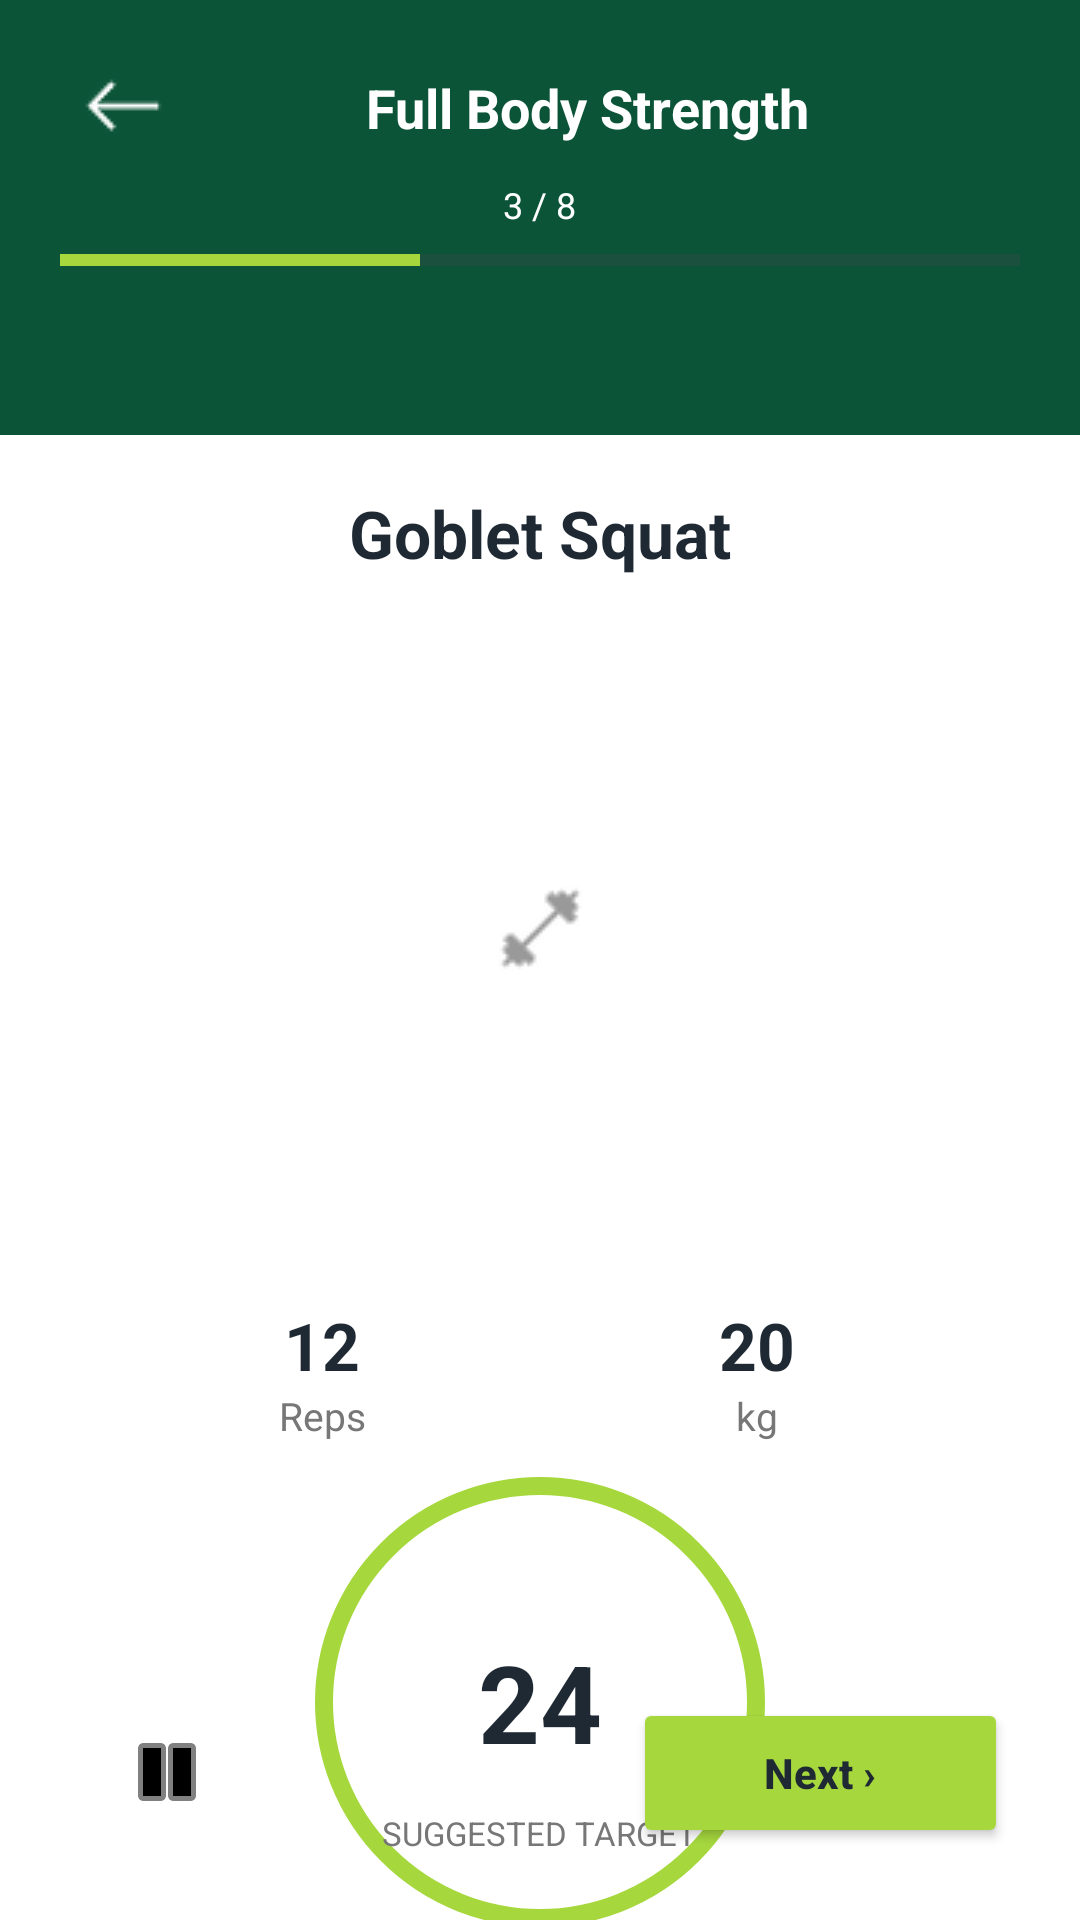

Named icons in this screenshot (1080 x 1920) and their bounding boxes, (x1, y1, x2, y2):
Back: (86, 80, 161, 132)
Pause workout: (138, 1743, 196, 1801)
